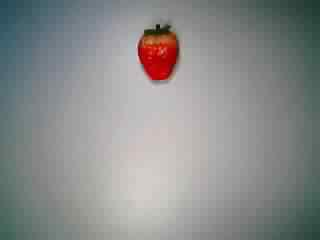strawberry: (126, 21, 186, 89)
